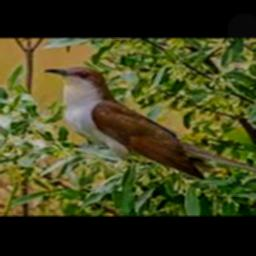Cuckoo: (42, 66, 256, 193)
